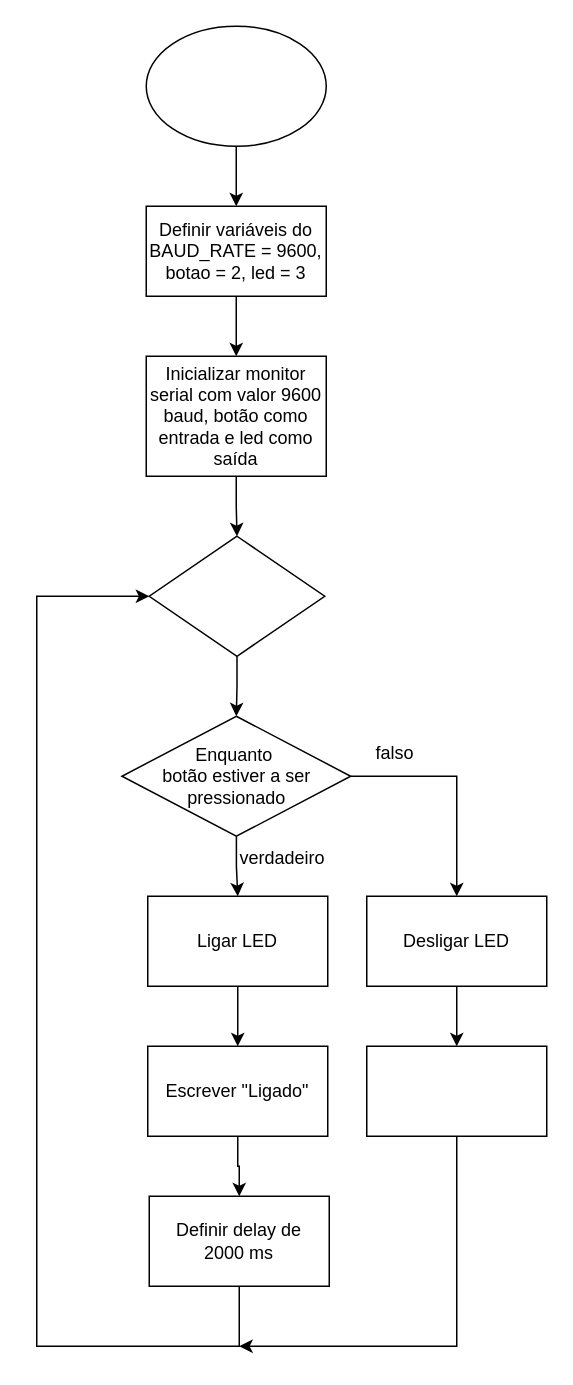
Image size: 573x1385. Some labels were removed from this diagram. Here are the shapes that lost their labels. From the top down, the centre of each, then its label:
point (235, 85): Início
point (236, 595): Repetir sempre
point (456, 1090): Escrever "Desligado"
